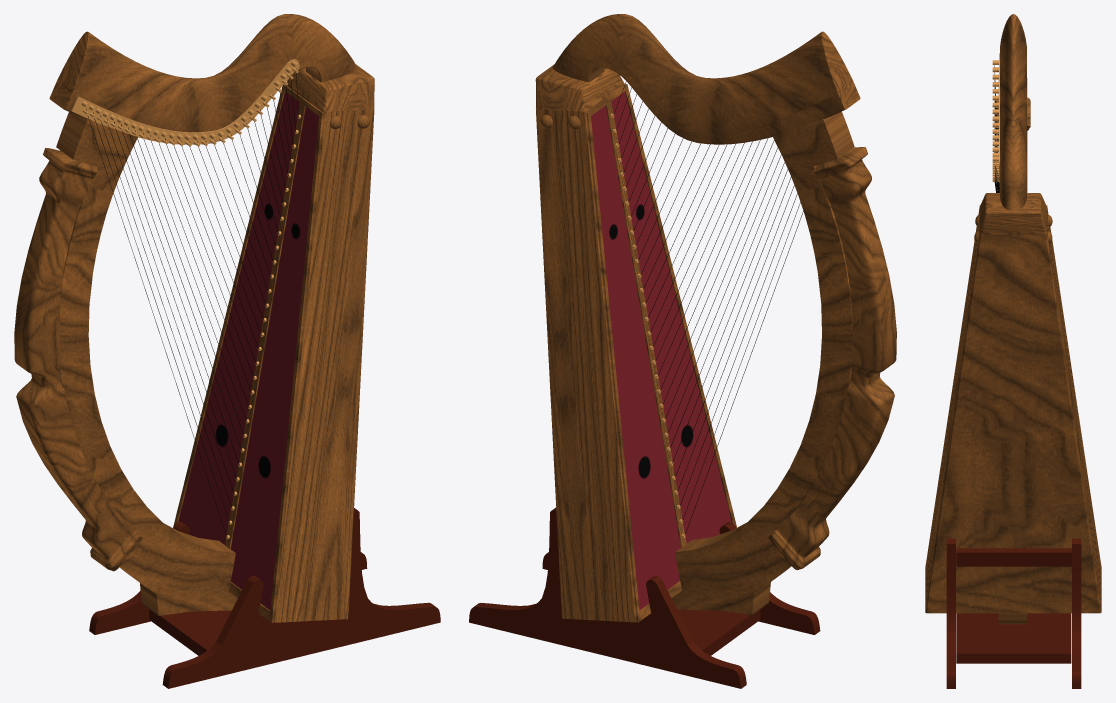
The model's file is Harpa.fbx.
The picture shows the model from 3 angles, left to right: view 1: azimuth 30°, elevation 25°; view 2: azimuth 150°, elevation 25°; view 3: azimuth 270°, elevation 25°; orthographic projection. The views are drawn at different scales.
Parts seen in each view (by area): view 1: S_box, S_board, Pillar, Pillar_d, H_curve, Stand01, S_edge, S_mid, S_top, peg_brd, Stand04, Stand02 (+1 smaller); view 2: S_box, S_board, Pillar, H_curve, Pillar_d, Stand02, S_edge, S_mid, S_top, Stand04, Stand01, H_end; view 3: S_box, Stand04, H_curve, S_top, Stand03, Stand01, Stand02, Pillar, S_edge.
Boxes of the visible parts, left/top/right/bottom form: S_box: left=273, top=85, right=374, bottom=622; S_board: left=178, top=91, right=318, bottom=610; Pillar: left=56, top=112, right=237, bottom=615; Pillar_d: left=14, top=148, right=142, bottom=571; H_curve: left=65, top=14, right=357, bottom=144; Stand01: left=162, top=508, right=440, bottom=688; S_edge: left=173, top=84, right=323, bottom=622; S_mid: left=225, top=102, right=305, bottom=548; S_top: left=287, top=64, right=374, bottom=111; peg_brd: left=71, top=59, right=299, bottom=144; Stand04: left=149, top=609, right=231, bottom=655; Stand02: left=89, top=522, right=367, bottom=634; S_box: left=536, top=83, right=636, bottom=622; S_board: left=591, top=91, right=731, bottom=609; Pillar: left=671, top=111, right=854, bottom=614; H_curve: left=552, top=14, right=844, bottom=144; Pillar_d: left=768, top=147, right=896, bottom=570; Stand02: left=469, top=507, right=746, bottom=688; S_edge: left=586, top=84, right=736, bottom=622; S_mid: left=606, top=101, right=686, bottom=547; S_top: left=535, top=64, right=624, bottom=111; Stand04: left=677, top=609, right=760, bottom=655; Stand01: left=542, top=522, right=820, bottom=634; H_end: left=821, top=31, right=860, bottom=109; S_box: left=925, top=206, right=1101, bottom=613; Stand04: left=956, top=613, right=1071, bottom=663; H_curve: left=1000, top=14, right=1026, bottom=210; S_top: left=979, top=193, right=1046, bottom=234; Stand03: left=956, top=548, right=1071, bottom=566; Stand01: left=946, top=538, right=955, bottom=688; Stand02: left=1072, top=538, right=1081, bottom=688; Pillar: left=998, top=78, right=1027, bottom=624; S_edge: left=925, top=205, right=1101, bottom=568.
Size of the model in its own units: 92.43 by 148 by 43.47.
Materials: 6 (3 with a texture image).
